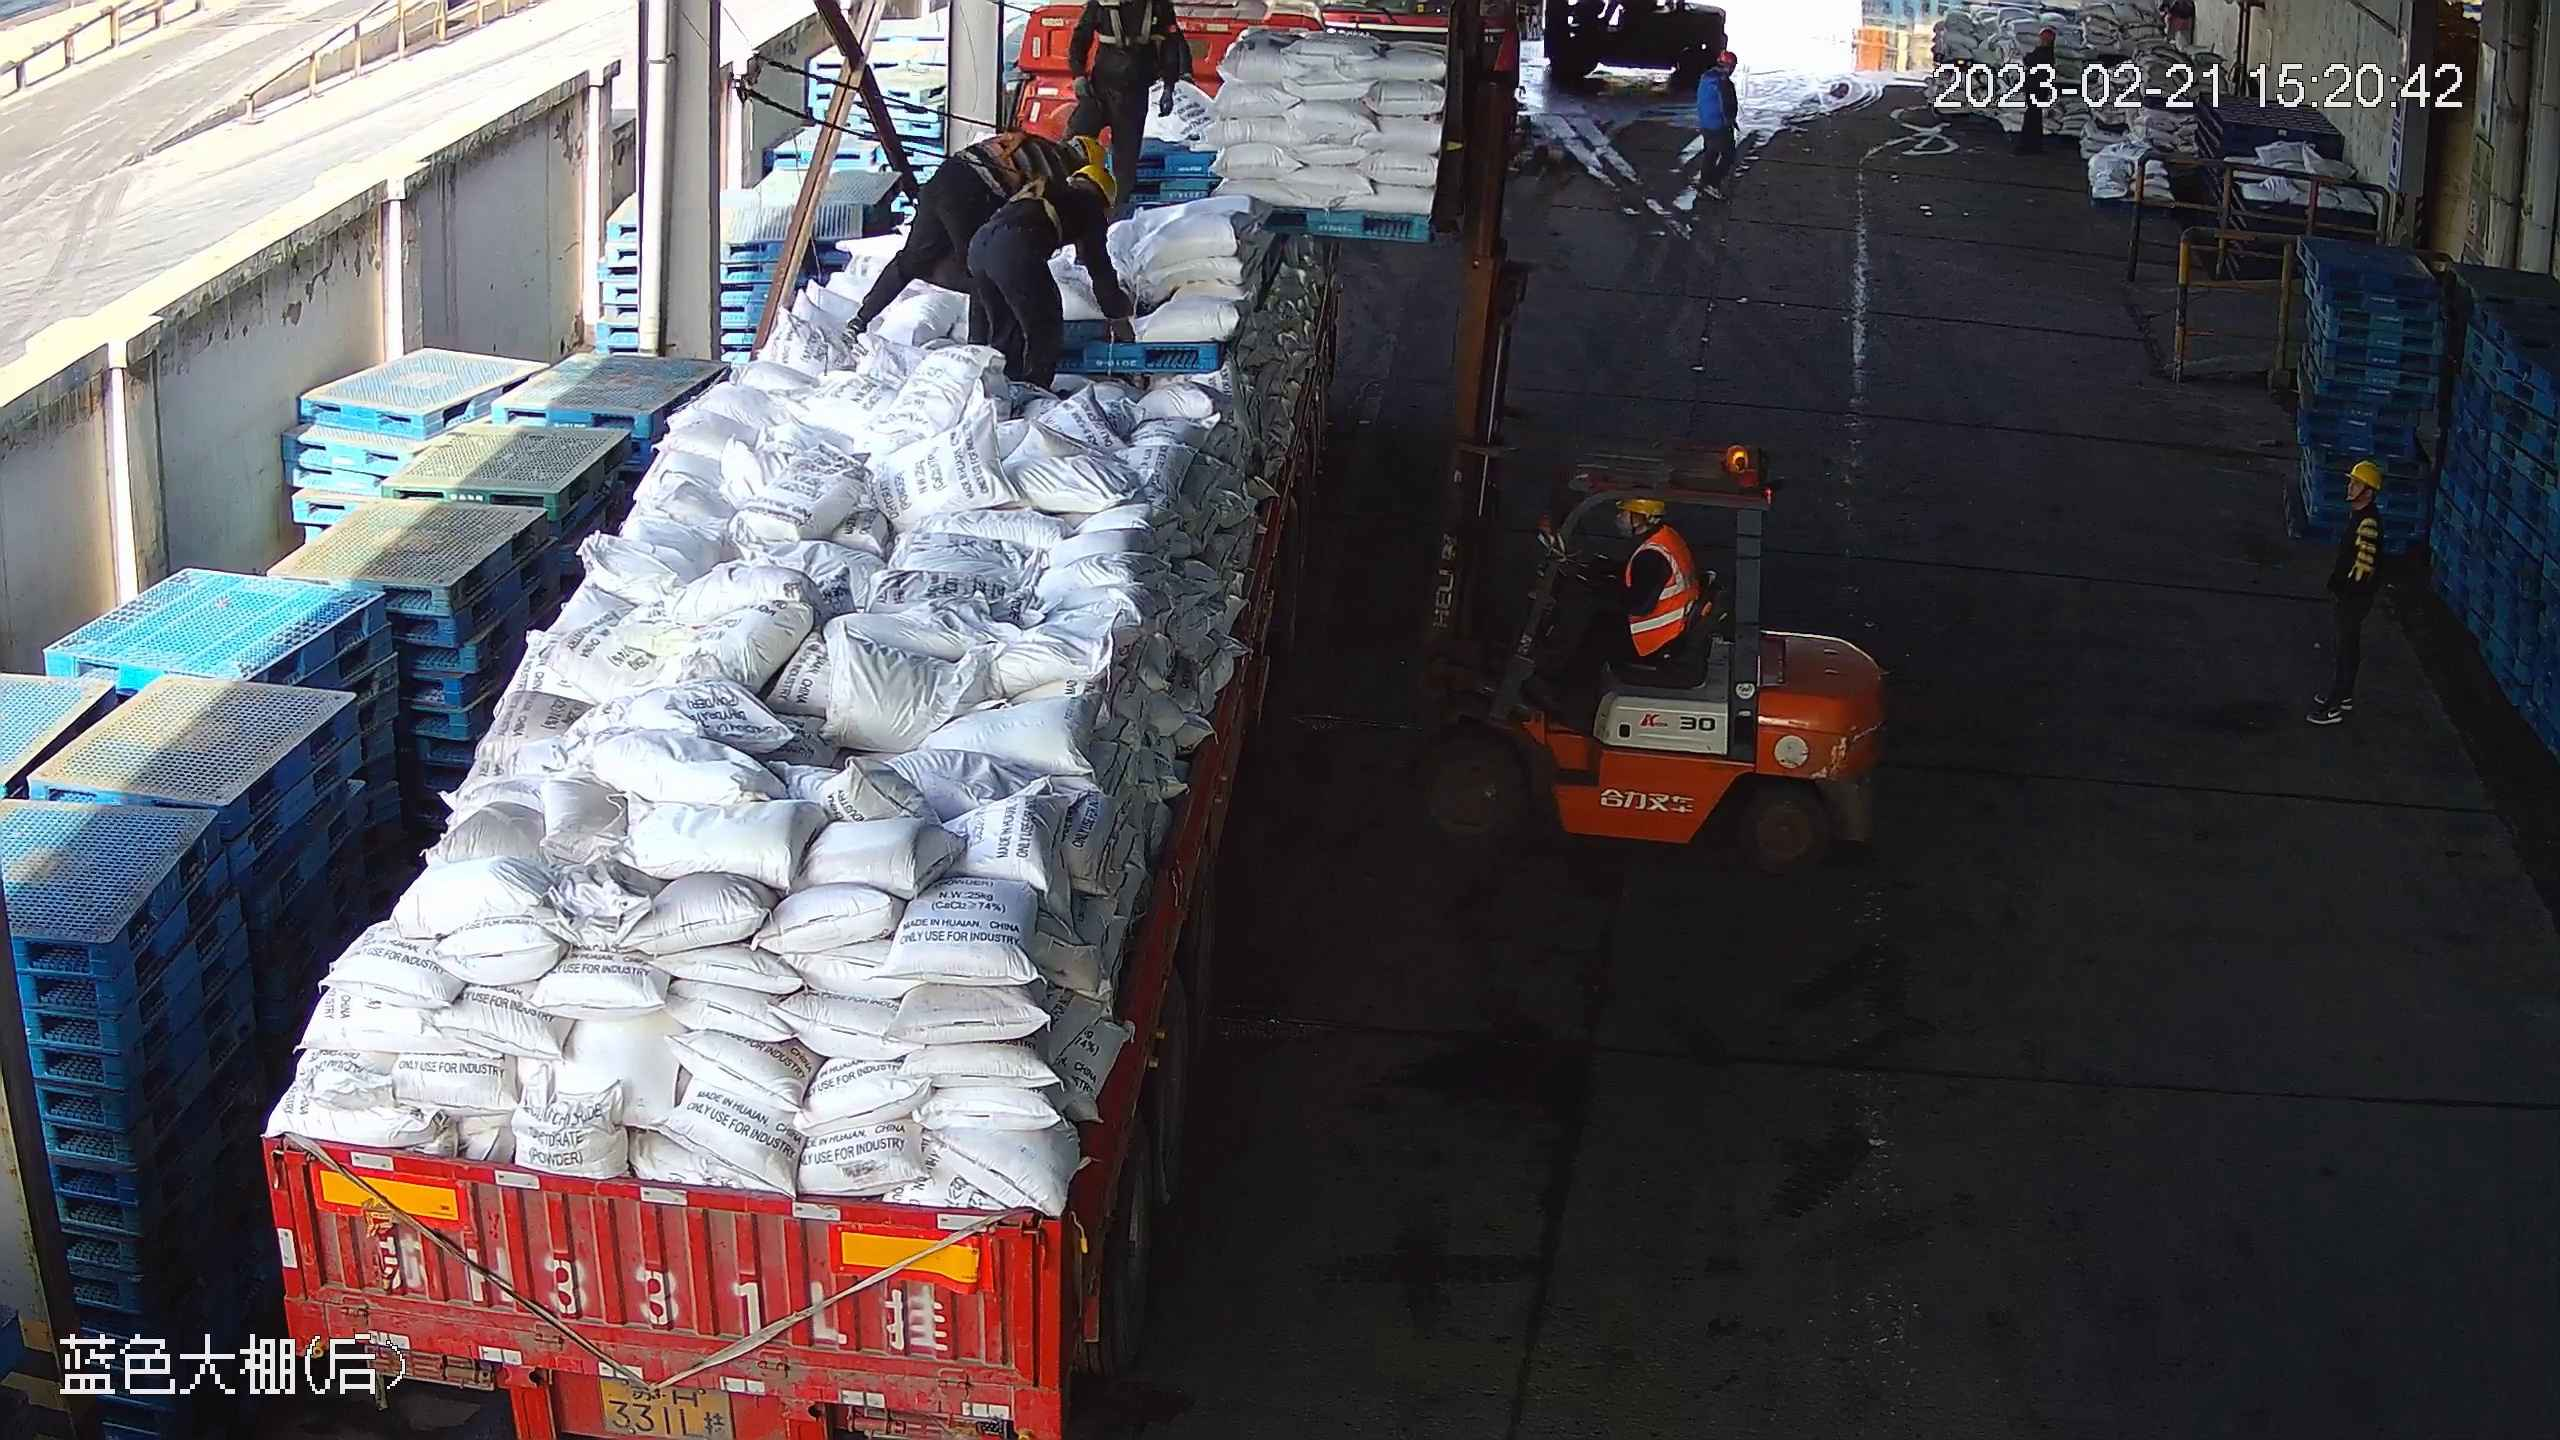belt: (1020, 170, 1065, 226), (989, 121, 1032, 175), (1107, 2, 1161, 45)
head: (1613, 496, 1690, 577), (1037, 162, 1114, 237), (1011, 126, 1106, 180), (2329, 462, 2388, 528), (1700, 50, 1743, 100)
helmet: (1071, 156, 1120, 202), (2350, 462, 2387, 488), (1716, 51, 1741, 75)
people: (1533, 486, 1701, 719), (2301, 464, 2396, 747), (1696, 44, 1749, 197)
truck: (244, 1, 1335, 1440)
